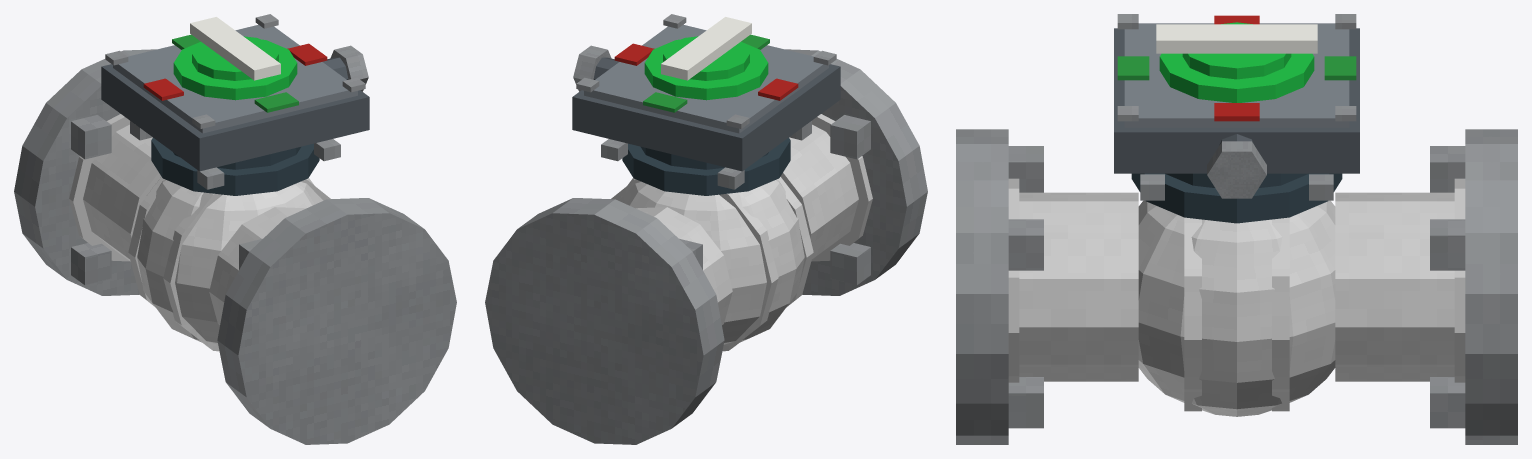
Rendered from open.obj.
3 renders of one model, left to right at view 1: azimuth 30°, elevation 25°; view 2: azimuth 150°, elevation 25°; view 3: azimuth 270°, elevation 25°, orthographic. The views are drawn at different scales.
Bounding box in the file's own units: 0.5938 × 0.7812 × 1.
